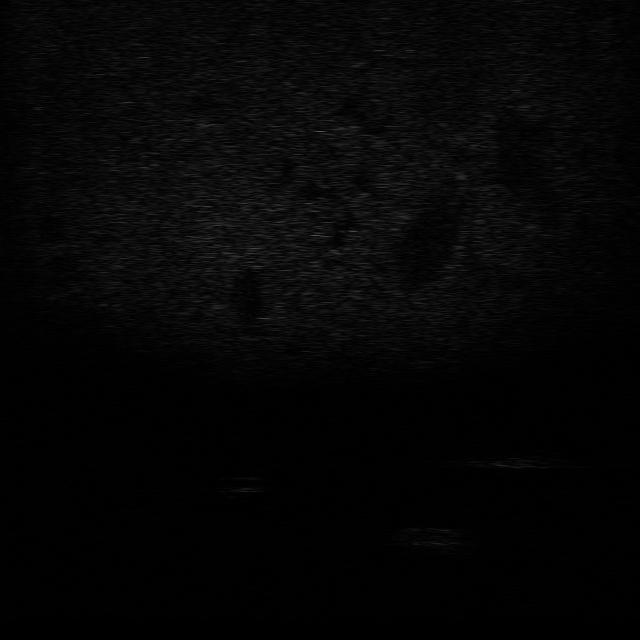ball: (220, 473, 269, 496)
circle cage: (394, 524, 474, 558)
human body: (465, 448, 567, 472)
